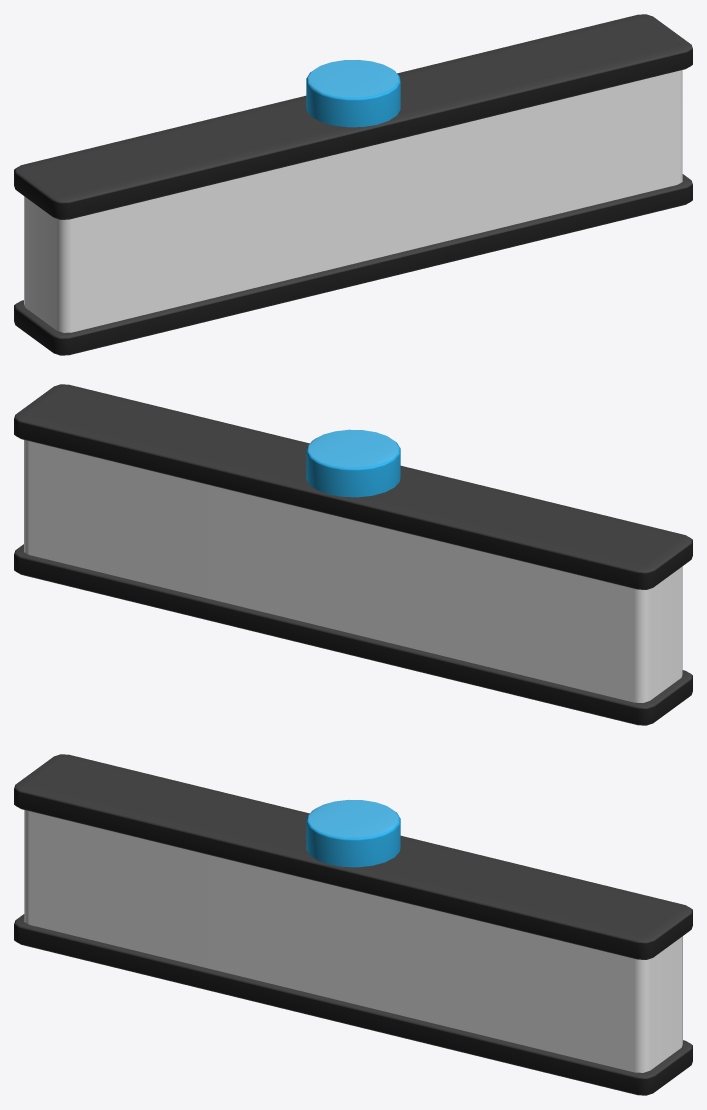
File: Glass9x.fbx
3 renders of one model, top to bottom at view 1: azimuth 30°, elevation 25°; view 2: azimuth 150°, elevation 25°; view 3: azimuth 330°, elevation 25°, orthographic.
Visible parts, largest first — view 1: Glass_trans, Vach2, Vach1, pedestal; view 2: Glass_trans, Vach2, Vach1, pedestal; view 3: Glass_trans, Vach2, Vach1, pedestal.
Boxes of the visible parts, x1,y1,x2,y2 form: Glass_trans: (24, 70, 682, 332); Vach2: (14, 14, 692, 219); Vach1: (14, 174, 692, 355); pedestal: (306, 60, 400, 127); Glass_trans: (24, 440, 682, 702); Vach2: (14, 384, 692, 589); Vach1: (14, 544, 692, 725); pedestal: (306, 429, 400, 497); Glass_trans: (24, 810, 682, 1072); Vach2: (14, 754, 692, 959); Vach1: (14, 914, 692, 1095); pedestal: (306, 800, 400, 867).
Bounding box in the file's own units: 2284 × 628 × 309.
